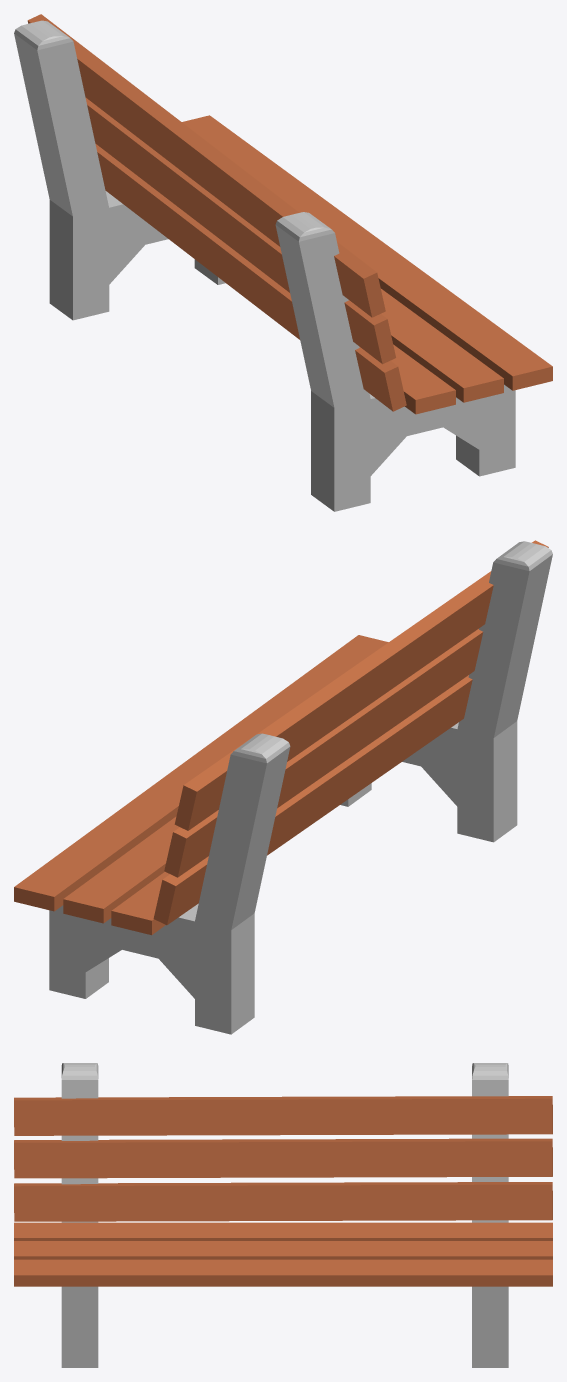
Rendered from bench.fbx.
The picture shows the model from 3 angles, top to bottom: view 1: azimuth 30°, elevation 25°; view 2: azimuth 150°, elevation 25°; view 3: azimuth 270°, elevation 25°; orthographic projection. The views are drawn at different scales.
Parts seen in each view (by area): view 1: Cube.001, Cube; view 2: Cube.001, Cube; view 3: Cube.001, Cube.
Boxes of the visible parts, bbox=[...] form: Cube.001: bbox=[27, 14, 552, 414]; Cube: bbox=[14, 20, 515, 511]; Cube.001: bbox=[14, 540, 548, 935]; Cube: bbox=[49, 541, 552, 1034]; Cube.001: bbox=[14, 1096, 552, 1286]; Cube: bbox=[61, 1063, 508, 1367].
Bounding box in the file's own units: 247 × 303 × 657.
